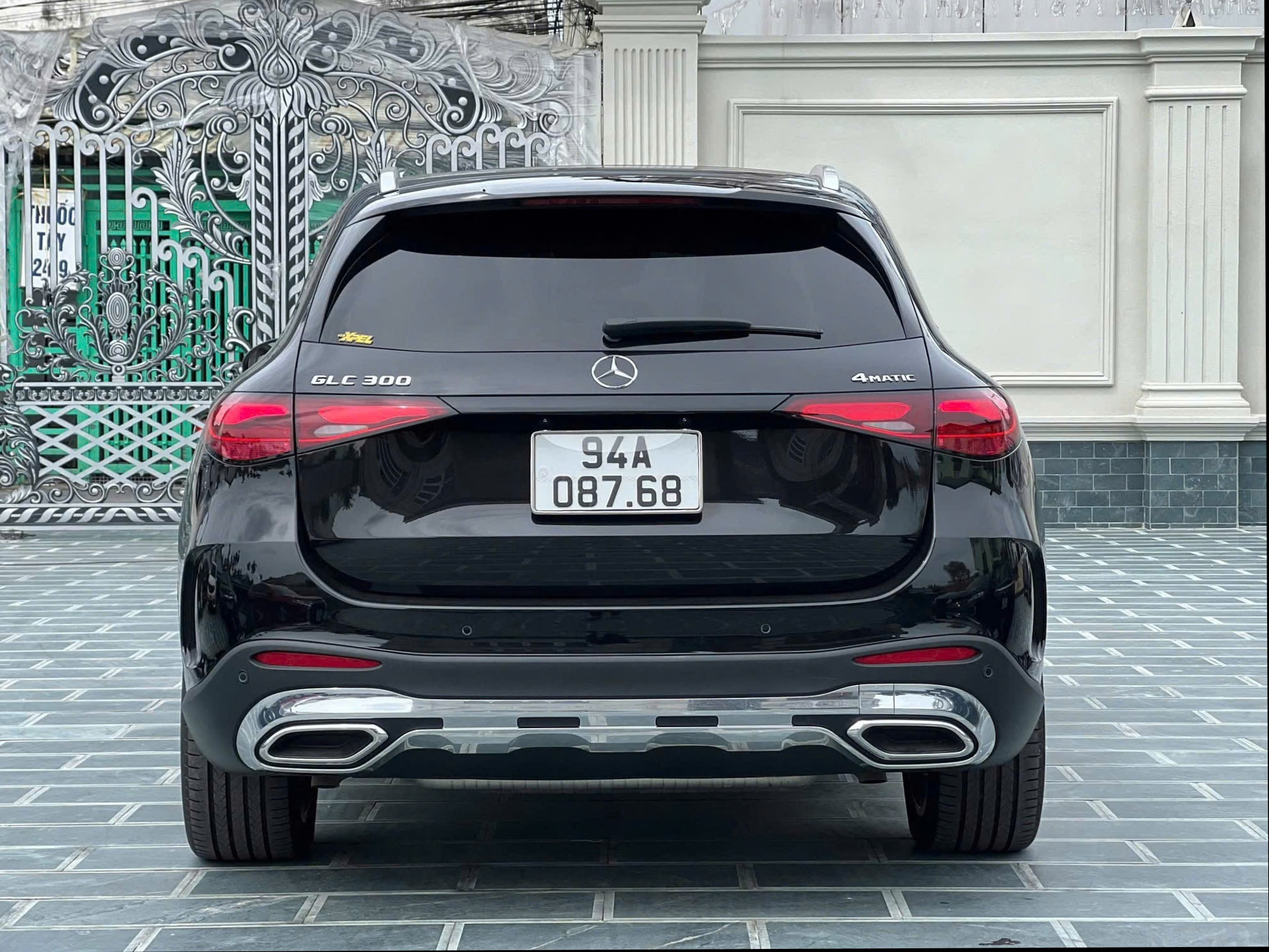Bien-so: (575, 434, 749, 538)
